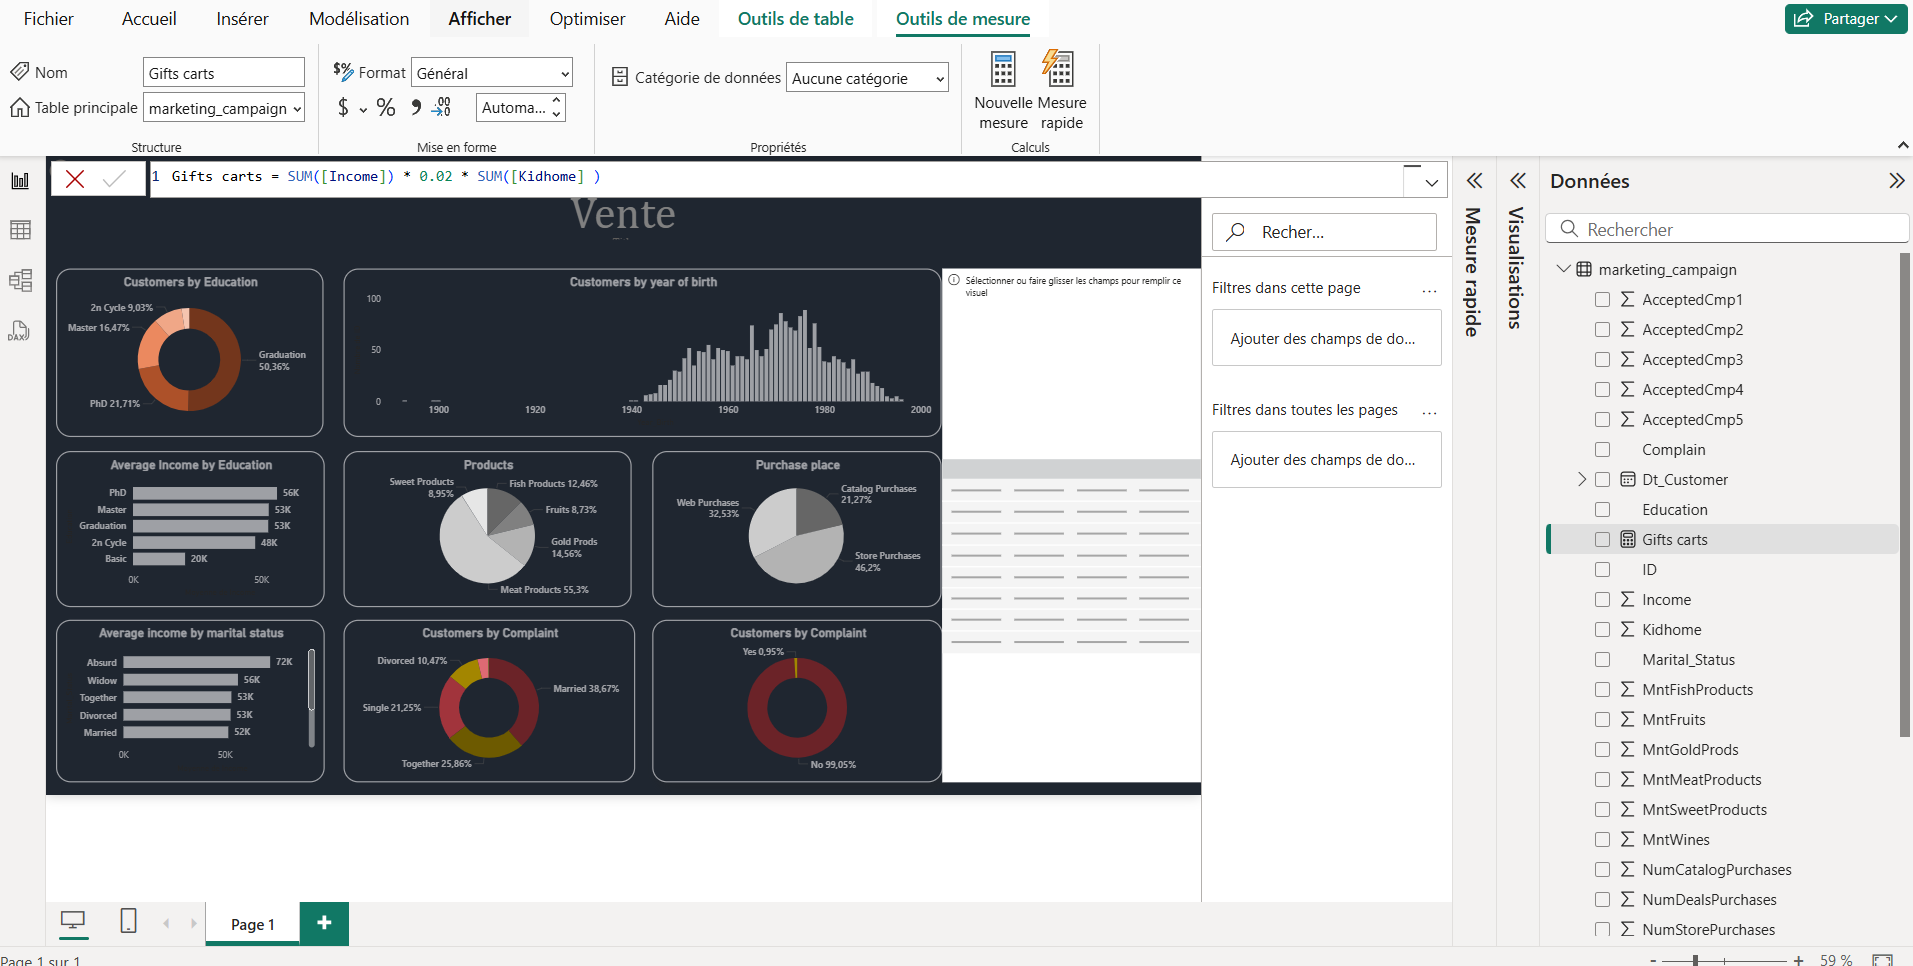

This screenshot's page, from the dashboard's own definition file:
{"tool":"powerbi","page":{"name":"Page 1","canvas":[1568,868],"ordinal":0},"visuals":[{"type":"clusteredBarChart","title":"Average Income by Education","fields":{"Category":["marketing_campaign.Education"],"Y":["Avg(marketing_campaign.Income)"]},"box":[13.3,401.1,364.7,212.2],"z":0},{"type":"clusteredBarChart","title":"Average income by marital status","fields":{"Y":["Avg(marketing_campaign.Income)"],"Category":["marketing_campaign.Marital_Status"]},"box":[13.3,629.9,364.7,220.4],"z":1000},{"type":"clusteredColumnChart","title":"Customers by year of birth ","fields":{"Category":["marketing_campaign.Year_Birth"],"Y":["CountNonNull(marketing_campaign.ID)"]},"box":[404.4,152.5,812.2,228.7],"z":2000},{"type":"donutChart","title":"Customers by Education","fields":{"Category":["marketing_campaign.Education"],"Y":["CountNonNull(marketing_campaign.ID)"]},"box":[13.3,152.5,363,228.7],"z":3000},{"type":"pieChart","title":"Purchase place","fields":{"Y":["Sum(marketing_campaign.NumCatalogPurchases)","Sum(marketing_campaign.NumStorePurchases)","Sum(marketing_campaign.NumWebPurchases)"]},"box":[823.8,401.1,392.8,212.2],"z":4000},{"type":"donutChart","title":"Customers by Marital status","fields":{"Y":["CountNonNull(marketing_campaign.ID)"],"Category":["marketing_campaign.Marital_Status"]},"box":[404.4,629.9,396.1,220.4],"z":5000},{"type":"donutChart","title":"Customers by Complaint","fields":{"Y":["CountNonNull(marketing_campaign.ID)"],"Category":["marketing_campaign.Complain"]},"box":[823.8,629.9,394.5,220.4],"z":6000},{"type":"pieChart","title":"Products","fields":{"Y":["Sum(marketing_campaign.MntFishProducts)","Sum(marketing_campaign.MntFruits)","Sum(marketing_campaign.MntGoldProds)","Sum(marketing_campaign.MntMeatProducts)","Sum(marketing_campaign.MntSweetProducts)"]},"box":[404.4,401.1,391.2,212.2],"z":7000},{"type":"card","fields":{"Values":["marketing_campaign.Title"]},"box":[0,44.8,1568,74.6],"z":8000},{"type":"actionButton","box":[0,0,100,40],"z":9000},{"type":"tableEx","title":"Gift cartes by Customer ID","fields":{"Values":["marketing_campaign.ID","marketing_campaign.Gifts carts"]},"box":[1234.8,152.5,333.2,697.8],"z":10000}]}

Visuals, with their boxes on the page's 1568x868 design canvas (x1, y1, x2, y2). These are canvas units, not pixel positions in the 1913x966 screenshot, which may show the page scaled, cropped or inside an application window:
"Average Income by Education" clusteredBarChart: bbox(13, 401, 378, 613)
"Average income by marital status" clusteredBarChart: bbox(13, 630, 378, 850)
"Customers by year of birth " clusteredColumnChart: bbox(404, 152, 1217, 381)
"Customers by Education" donutChart: bbox(13, 152, 376, 381)
"Purchase place" pieChart: bbox(824, 401, 1217, 613)
"Customers by Marital status" donutChart: bbox(404, 630, 800, 850)
"Customers by Complaint" donutChart: bbox(824, 630, 1218, 850)
"Products" pieChart: bbox(404, 401, 796, 613)
card - marketing_campaign.Title: bbox(0, 45, 1568, 119)
actionButton: bbox(0, 0, 100, 40)
"Gift cartes by Customer ID" tableEx: bbox(1235, 152, 1568, 850)
